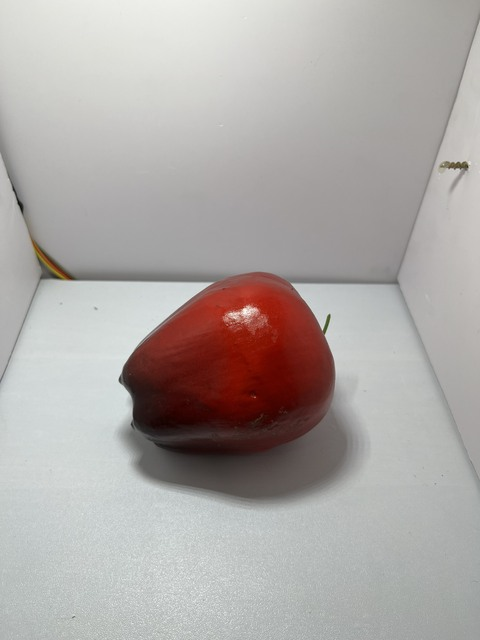Tao: (115, 268, 344, 463)
